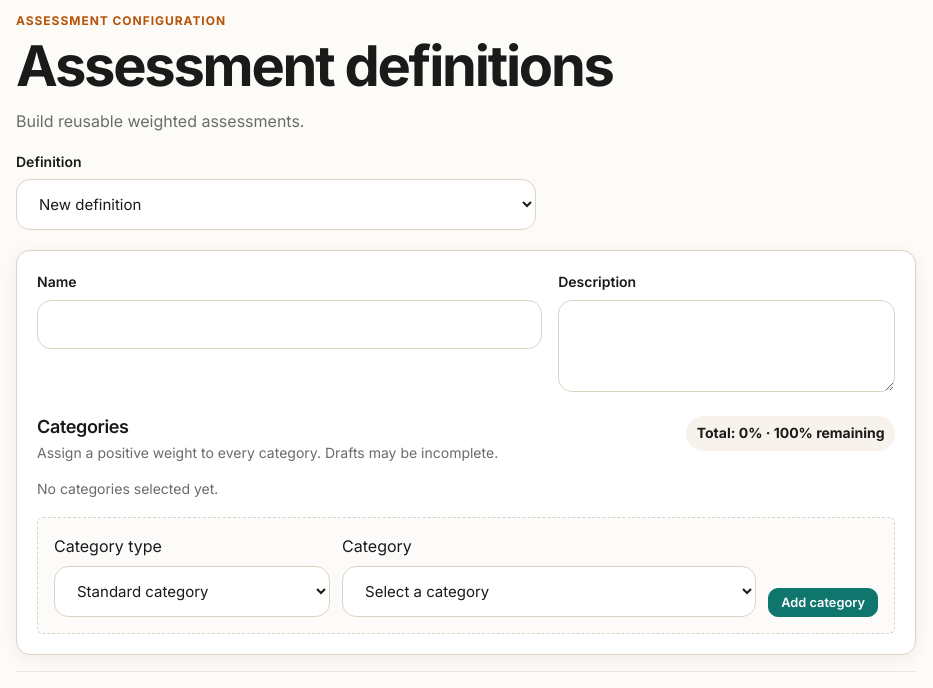
AssessmentDefinitions › adds categories, blocks duplicates, and tracks the total
This screenshot has width=933, height=688.
Select "Attack" in the dropdown named "Add category" at (549, 591), box [342,566,756,616]
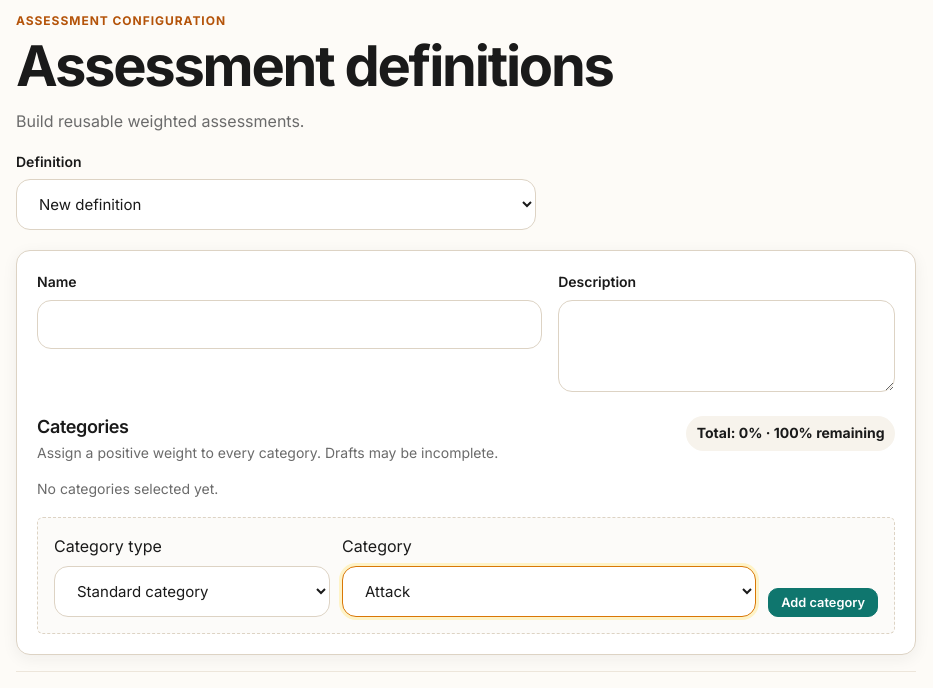
Click the button "Add category" at (823, 602), box [768,588,878,616]
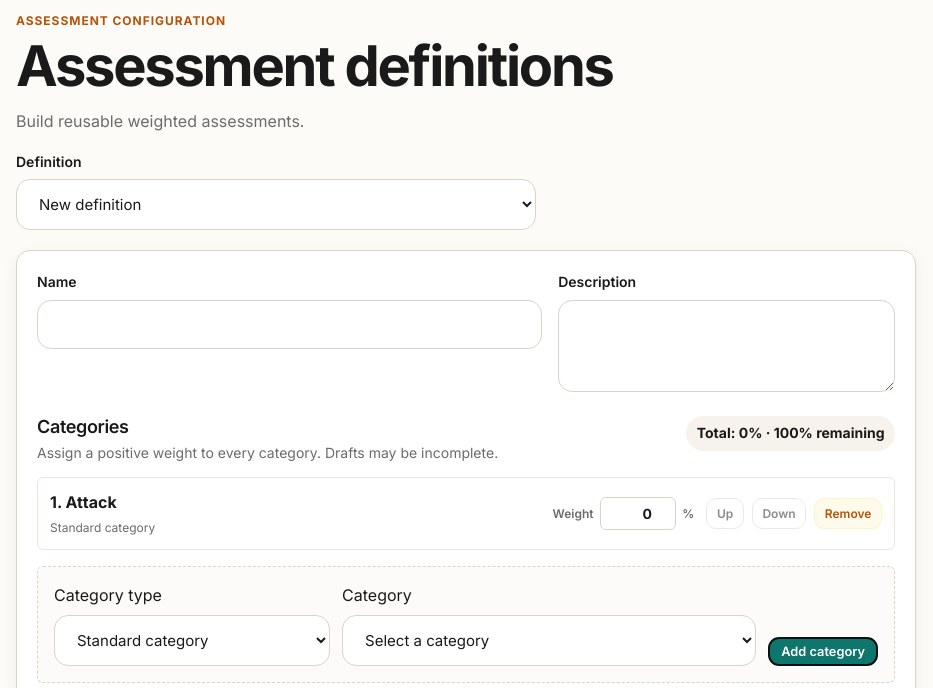
Check: the text "Total: 0% · 100% remaining" is shown, box [686,416,895,451]
Check: the text "1. Attack" is shown, box [50,492,117,512]
Select "Attack" in the dropdown named "Add category" at (549, 640), box [342,614,756,666]
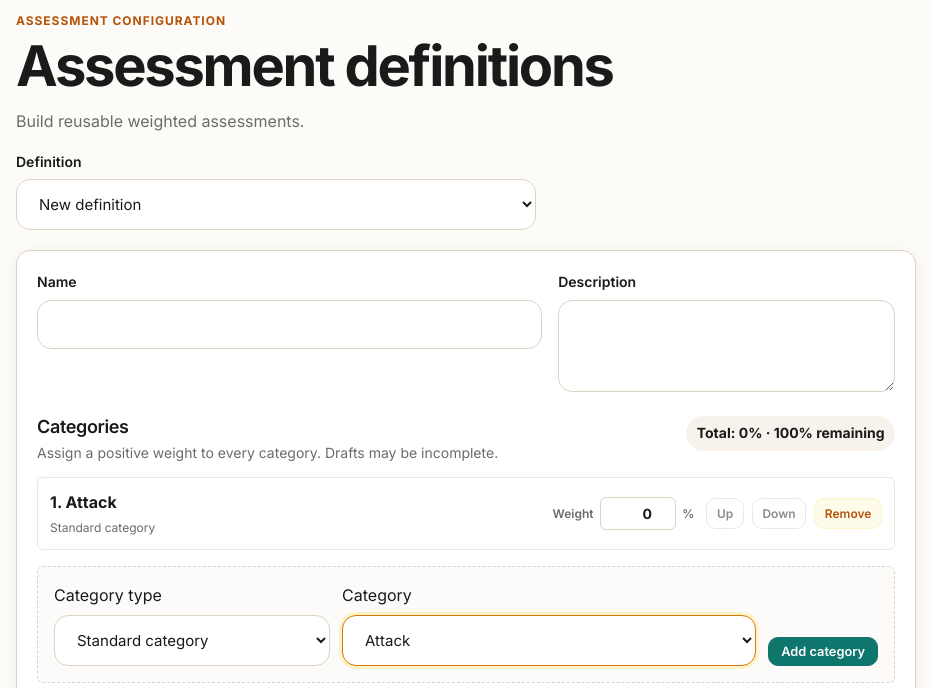
Click the button "Add category" at (823, 651), box [768,636,878,666]
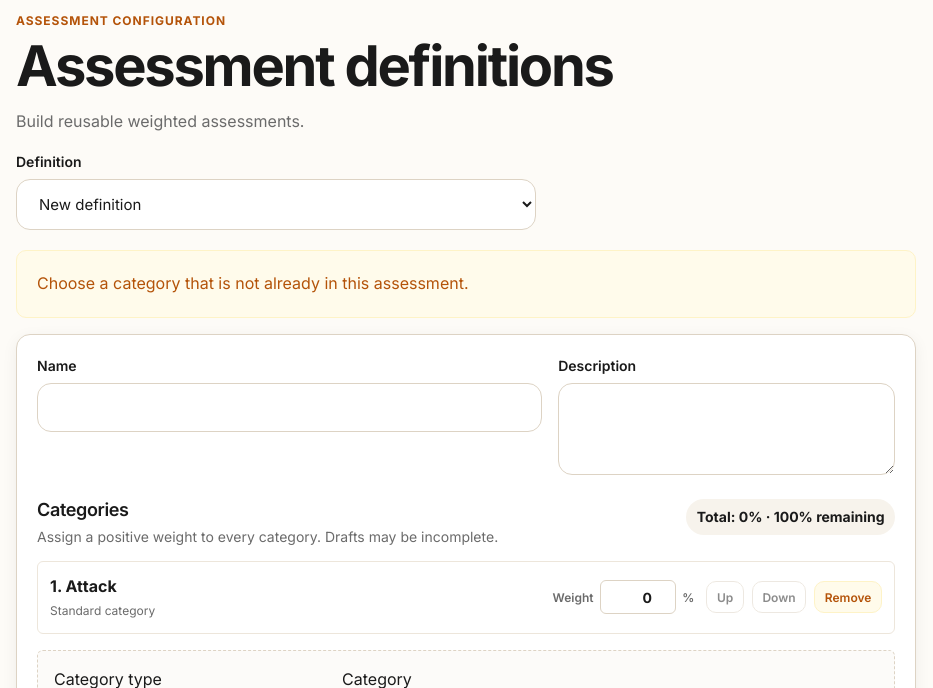
Check: the message shows "not already", box [37,273,468,293]
